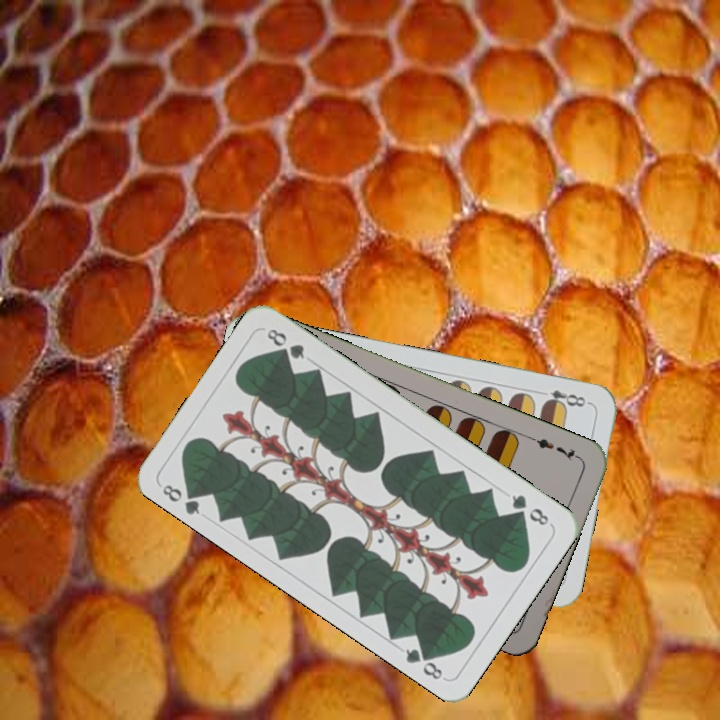E7: (527, 432, 583, 464)
E8: (539, 386, 593, 411)
G8: (158, 480, 205, 518), (507, 490, 552, 529)
